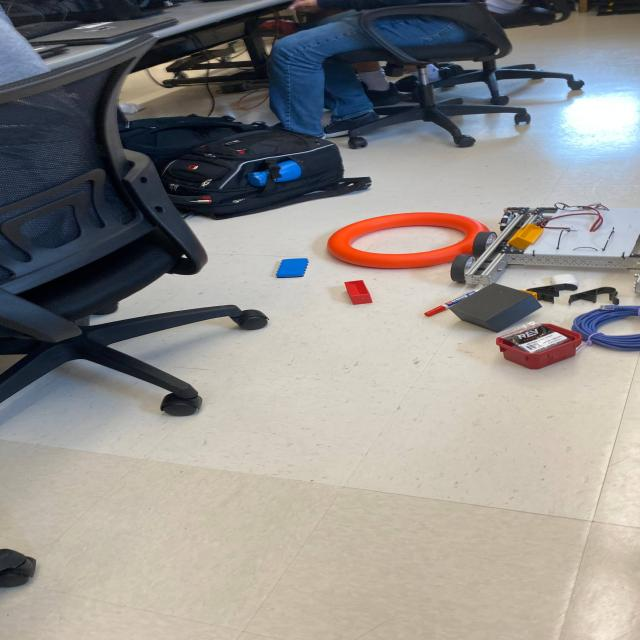red-specimen: (345, 280, 372, 305)
yellow-specimen: (508, 223, 543, 250), (522, 290, 538, 299)
